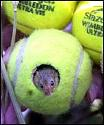tennis ball: (7, 26, 93, 114), (1, 1, 83, 39), (72, 1, 103, 67)
